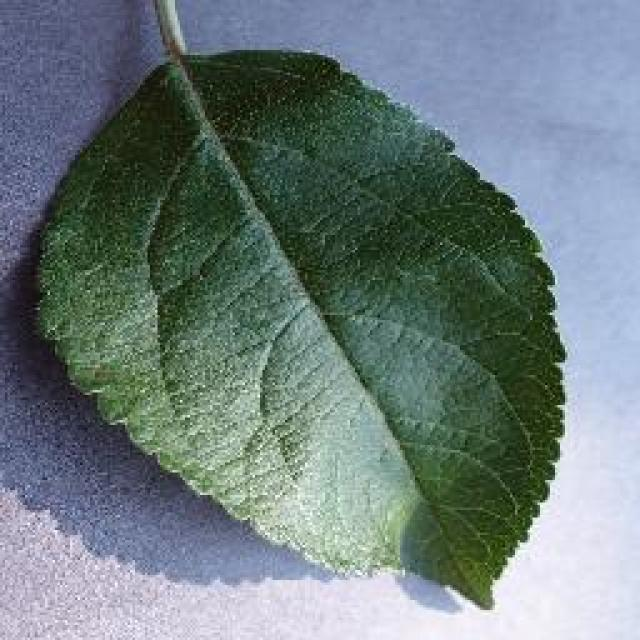apple scab disease: (30, 0, 570, 608)
